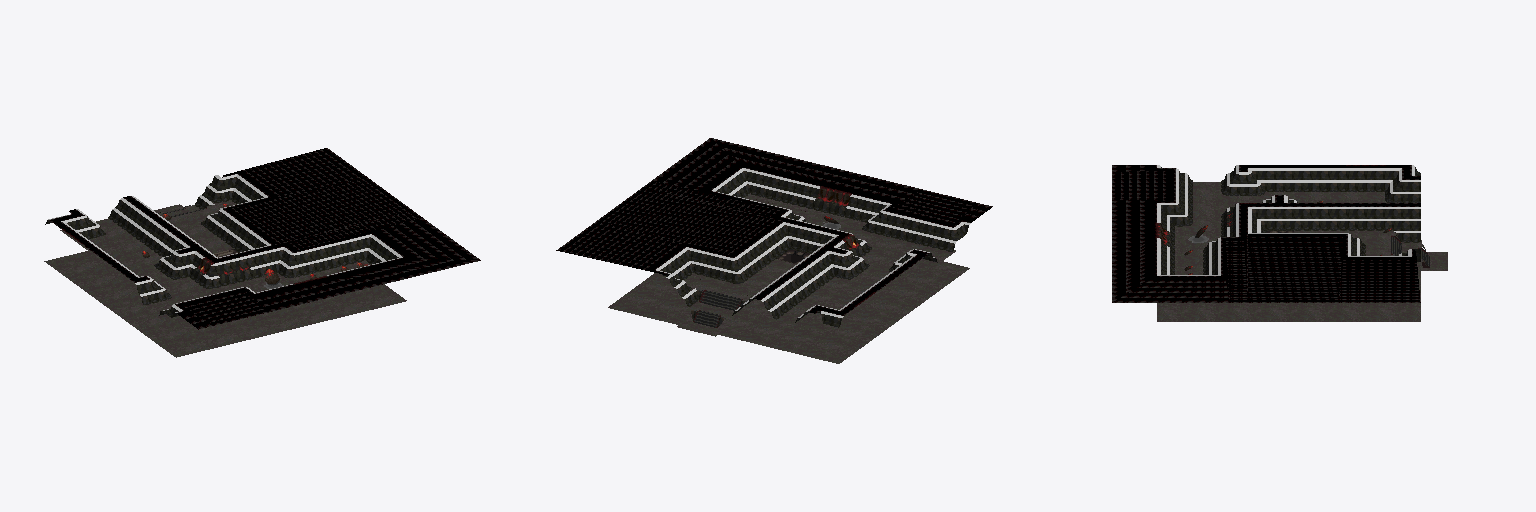
3 renders of one model, left to right at view 1: azimuth 30°, elevation 25°; view 2: azimuth 150°, elevation 25°; view 3: azimuth 270°, elevation 25°, orthographic.
Visible parts, largest first — view 1: polygon9, polygon0, polygon4, polygon14, polygon8; view 2: polygon9, polygon0, polygon4, polygon14, polygon8, polygon5; view 3: polygon9, polygon0, polygon4, polygon14, polygon8.
Part boxes in pixels (x1,y1,x2,y2): polygon9: (49, 148, 480, 329); polygon0: (44, 200, 406, 357); polygon4: (45, 176, 398, 317); polygon14: (79, 191, 381, 315); polygon8: (48, 174, 402, 312); polygon9: (556, 138, 992, 315); polygon0: (608, 193, 969, 363); polygon4: (660, 171, 968, 327); polygon14: (674, 184, 954, 322); polygon8: (656, 168, 970, 317); polygon5: (693, 290, 742, 327); polygon9: (1112, 165, 1420, 302); polygon0: (1157, 182, 1447, 321); polygon4: (1161, 166, 1427, 274); polygon14: (1170, 174, 1420, 274); polygon8: (1157, 165, 1420, 275).
Bounding box in the file's own units: 9 × 1.36 × 9.25.
18 materials, 17 textured.